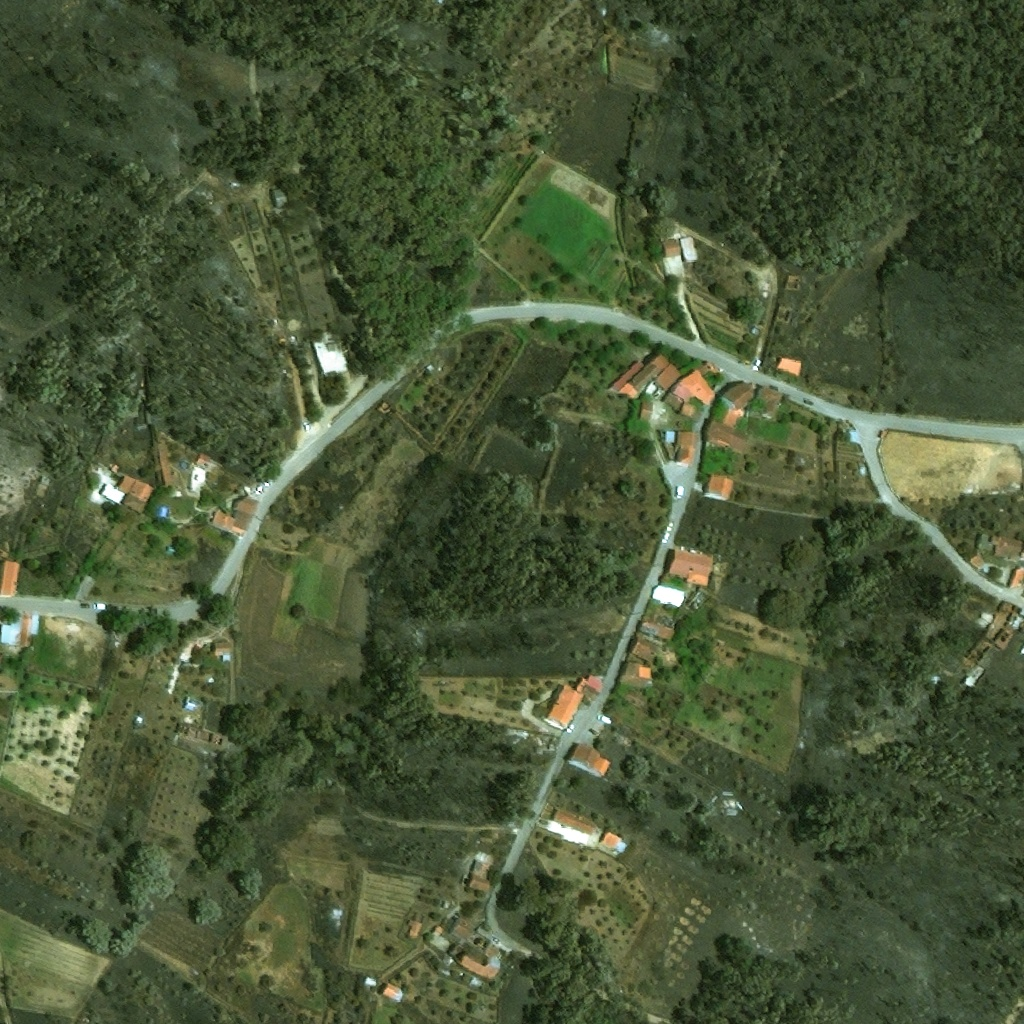0 no-damage: (618, 349, 670, 402), (211, 492, 261, 538), (676, 360, 723, 405), (542, 683, 584, 731), (702, 418, 752, 457), (666, 548, 713, 586), (456, 951, 504, 985), (566, 742, 611, 778), (617, 658, 657, 694), (549, 808, 598, 837), (719, 378, 757, 411), (628, 633, 667, 665), (607, 360, 644, 393), (0, 615, 39, 645), (650, 580, 689, 610), (669, 383, 700, 419), (652, 364, 682, 394), (703, 472, 733, 501), (575, 673, 605, 701), (987, 535, 1022, 558), (0, 562, 21, 597), (673, 430, 694, 465), (759, 386, 783, 416), (127, 477, 155, 502), (98, 482, 127, 505), (72, 574, 96, 600), (679, 235, 700, 263), (776, 357, 804, 377), (622, 687, 647, 709), (122, 494, 148, 515), (380, 982, 404, 1004), (193, 452, 218, 472), (599, 829, 621, 851), (661, 392, 685, 412), (660, 238, 681, 258), (1007, 565, 1023, 590), (115, 473, 134, 494), (638, 400, 654, 423), (723, 408, 741, 427), (968, 552, 986, 571), (191, 467, 206, 489), (184, 695, 203, 712), (406, 919, 422, 939), (839, 429, 859, 442), (362, 976, 378, 991), (211, 641, 230, 653), (431, 923, 444, 937), (615, 839, 628, 853), (424, 362, 435, 373), (664, 430, 674, 442), (879, 430, 889, 440), (222, 651, 231, 662), (442, 899, 451, 909)
1 minor-damage: (309, 326, 354, 381), (110, 463, 120, 474)
2 major-damage: (449, 917, 500, 960), (270, 184, 299, 220), (639, 615, 677, 641), (469, 859, 496, 882), (442, 943, 465, 968), (466, 874, 492, 893), (748, 325, 761, 337), (858, 464, 866, 475)
3 destroyed: (975, 600, 1021, 649), (959, 637, 995, 693), (176, 724, 223, 748), (374, 397, 399, 420), (473, 852, 499, 866), (706, 794, 724, 812), (463, 974, 482, 991), (136, 386, 148, 400)
4 un-classified: (1011, 608, 1023, 637)
